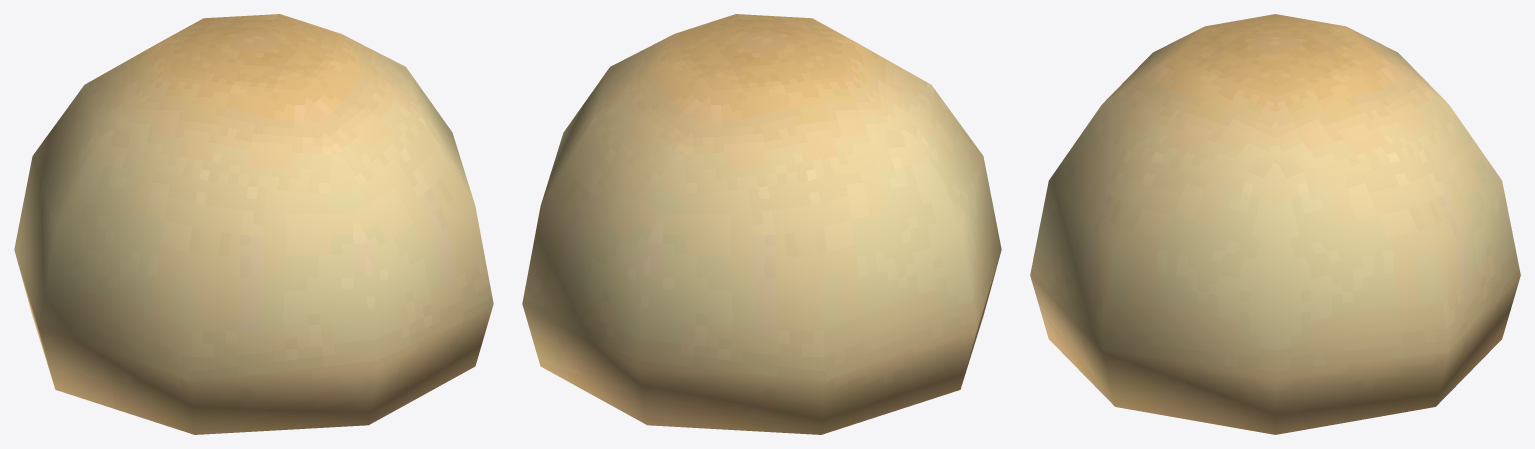
Rendered from F2_Item_Snack_Bolo.dae.
3 renders of one model, left to right at view 1: azimuth 30°, elevation 25°; view 2: azimuth 150°, elevation 25°; view 3: azimuth 270°, elevation 25°, orthographic.
Visible parts, largest first — view 1: _0_0_node; view 2: _0_0_node; view 3: _0_0_node.
Part boxes in pixels (left/top/right/bottom): _0_0_node: left=14, top=14, right=493, bottom=434; _0_0_node: left=522, top=14, right=1001, bottom=434; _0_0_node: left=1030, top=14, right=1520, bottom=434.
Size of the model in its own units: 0.2533 by 0.1832 by 0.2533.
Materials: 1 (1 with a texture image).
